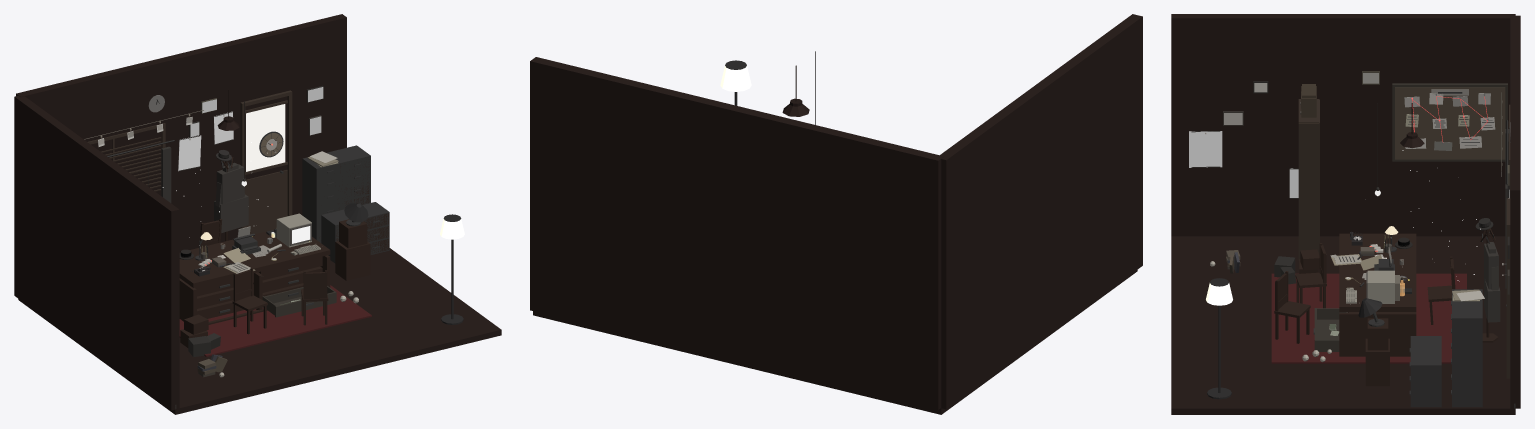
The model's file is room.glb.
3 views of the same model, side by side, from view 1: azimuth 30°, elevation 25°; view 2: azimuth 150°, elevation 25°; view 3: azimuth 270°, elevation 25° (orthographic). The views are drawn at different scales.
Visible parts, largest first — view 1: Wall_Left, Wall_Back, Floor, Desk, Door, Rug, Gramophone, Coat_Rack, Window, FileCab1_Body, FileCab5_Body, FileCab6_Body (+11 smaller); view 2: Wall_Back, Wall_Left, Floor, Floor_Lamp; view 3: Wall_Left, Floor, Investigation_Board, Rug, Desk, Wall_Back, Bookshelf, Gramophone, FileCab2_Body, FileCab4_Body, Coat_Rack, FileCab6_Body (+13 smaller).
Part boxes in pixels (x1,y1,x2,y2): Wall_Left: (14,95,179,410); Wall_Back: (16,14,346,252); Floor: (18,248,501,414); Desk: (179,229,330,324); Door: (240,90,292,234); Rug: (179,285,371,356); Gramophone: (335,203,370,280); Coat_Rack: (214,150,248,241); Window: (87,123,165,191); FileCab1_Body: (302,183,343,242); FileCab5_Body: (302,152,343,192); FileCab6_Body: (330,145,370,186); Wall_Back: (530,57,944,409); Wall_Left: (940,14,1142,409); Floor: (533,270,1137,414); Floor_Lamp: (720,60,751,105); Wall_Left: (1171,14,1515,236); Floor: (1171,236,1515,414); Investigation_Board: (1392,83,1507,161); Rug: (1271,273,1466,363); Desk: (1339,233,1416,356); Wall_Back: (1510,15,1520,408); Bookshelf: (1298,99,1319,260); Gramophone: (1358,298,1389,386); FileCab2_Body: (1452,345,1482,407); FileCab4_Body: (1410,350,1441,407); Coat_Rack: (1475,218,1500,342); FileCab6_Body: (1452,304,1482,344).
Size of the model in its own units: 6.07 by 3.6 by 5.08.
